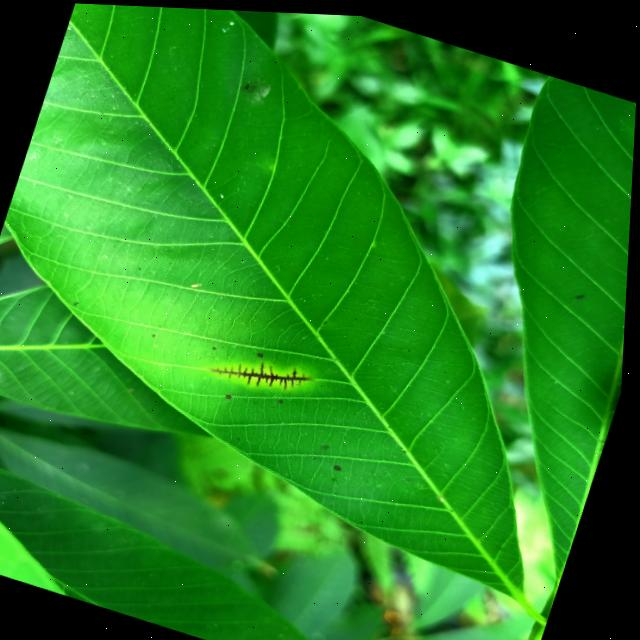Colletotrichum: (337, 461, 346, 468), (259, 349, 267, 355), (229, 392, 236, 397), (282, 395, 287, 401), (215, 343, 220, 348), (155, 332, 160, 336)
Corynespora: (212, 341, 318, 400)
